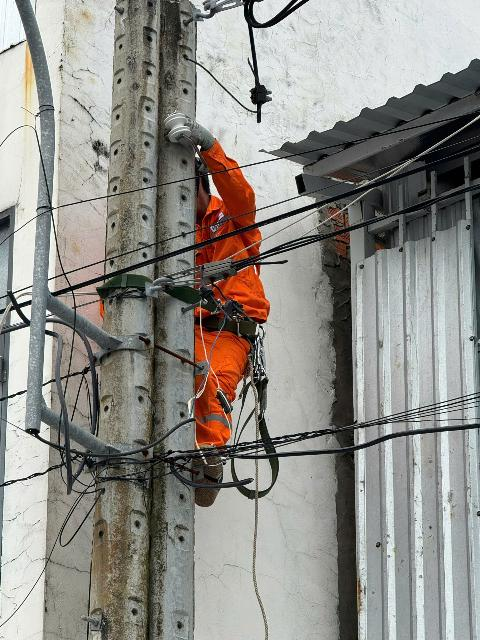gloves: (175, 104, 229, 157)
harness: (189, 298, 268, 348)
shoes: (186, 426, 238, 509)
